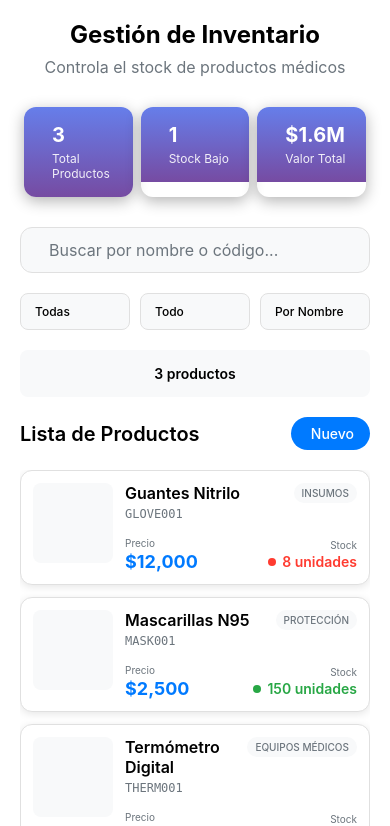
Test: InventoryScreen › Modal Interactions › opens add product modal when new button is pressed
Click the text "Nuevo" at (332, 434), box left=311, top=425, right=354, bottom=442
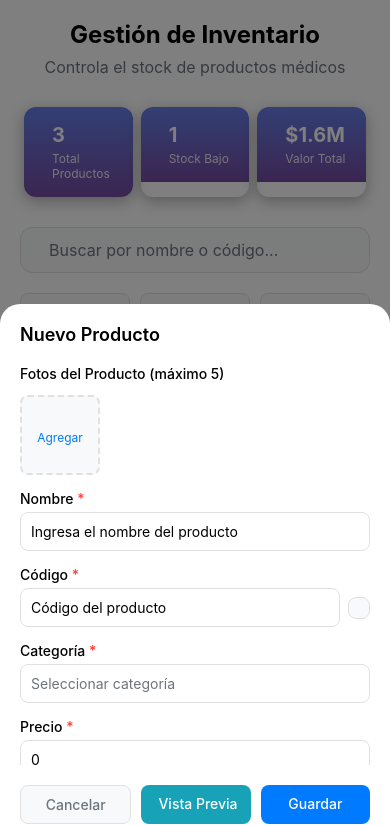
Expected: the text "Nuevo Producto" is shown, left=20, top=324, right=160, bottom=345
